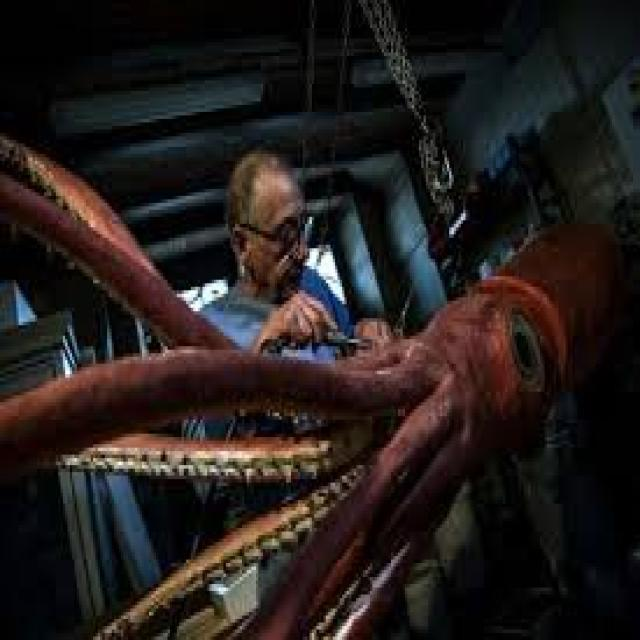squid: (0, 136, 621, 637)
